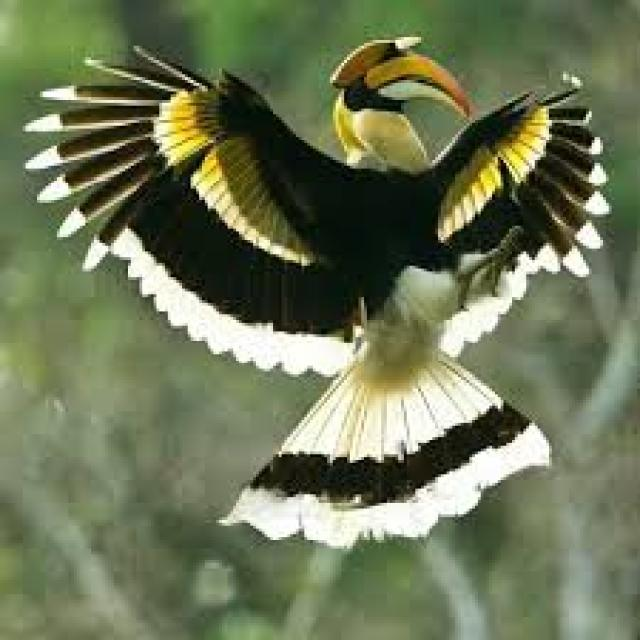Hornbill: (39, 34, 594, 544)
